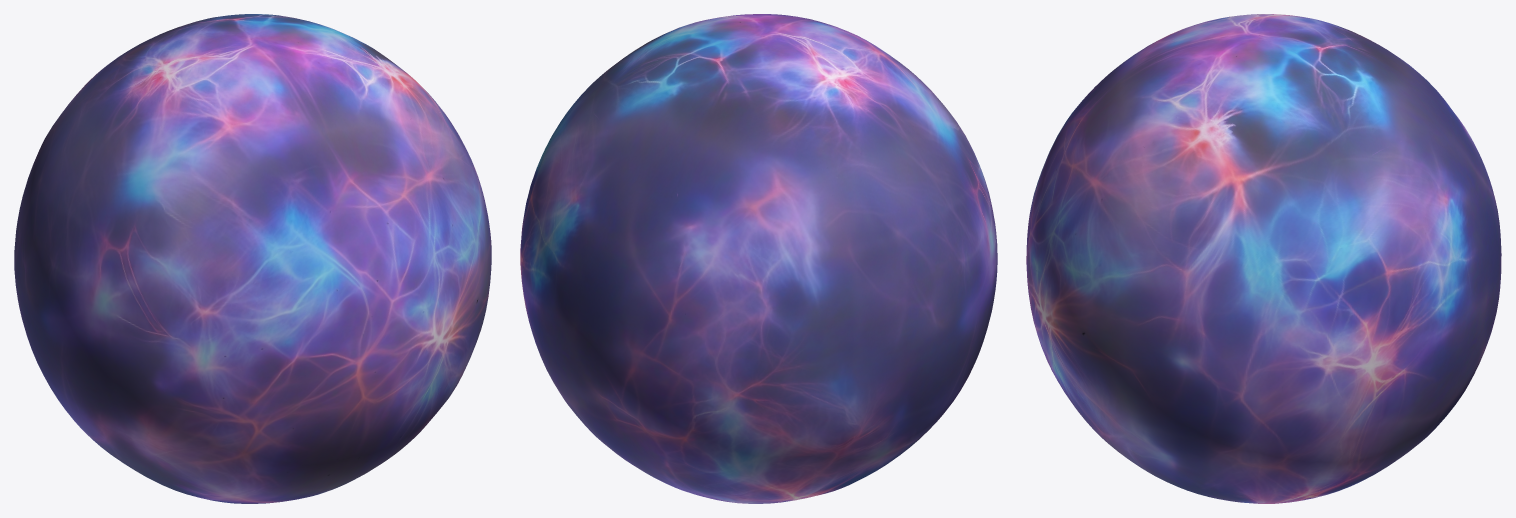
Rendered from Meshy_AI_MAKE_A_BALL_THAT_HAS__0426144129_texture.glb.
The picture shows the model from 3 angles, left to right: view 1: azimuth 30°, elevation 25°; view 2: azimuth 150°, elevation 25°; view 3: azimuth 270°, elevation 25°; orthographic projection.
Visible parts, largest first — view 1: Mesh1.0; view 2: Mesh1.0; view 3: Mesh1.0.
Boxes of the visible parts, <box> form: Mesh1.0: <box>14,14,491,503</box>; Mesh1.0: <box>520,14,997,503</box>; Mesh1.0: <box>1026,14,1501,503</box>.
Bounding box in the file's own units: 1.95 × 2.01 × 1.95.
Materials: 1 (1 with a texture image).
